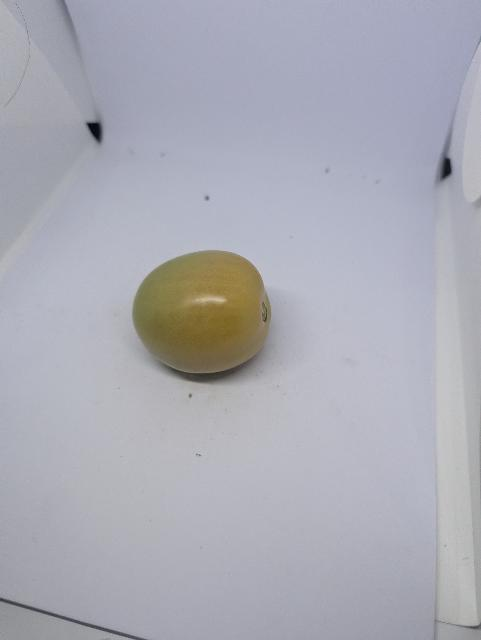breaker: (129, 245, 279, 378)
